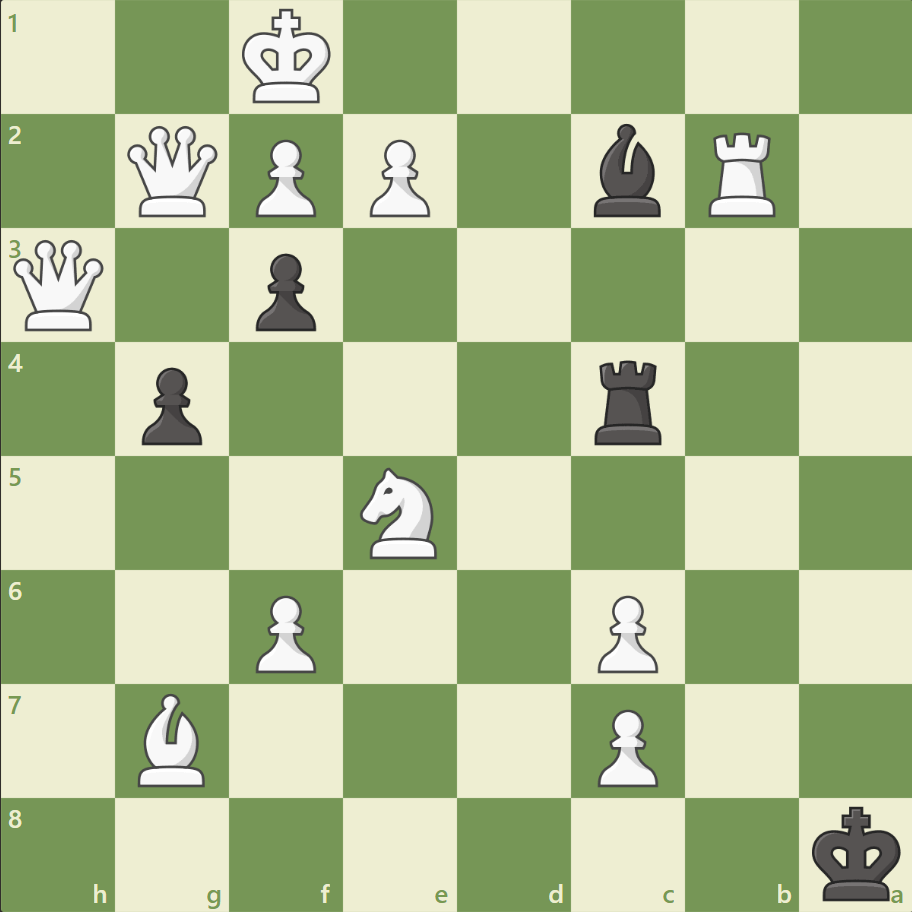B: (131, 687, 215, 790)
K: (238, 4, 338, 112)
N: (351, 461, 449, 564)
P: (247, 586, 322, 677), (247, 132, 322, 223), (588, 700, 662, 791), (588, 586, 662, 677), (361, 132, 435, 223)
Q: (124, 122, 223, 222), (10, 236, 109, 335)
R: (700, 125, 783, 222)
b: (585, 120, 669, 222)
k: (806, 798, 906, 906)
p: (133, 359, 208, 450), (247, 246, 322, 337)
r: (587, 352, 670, 449)
